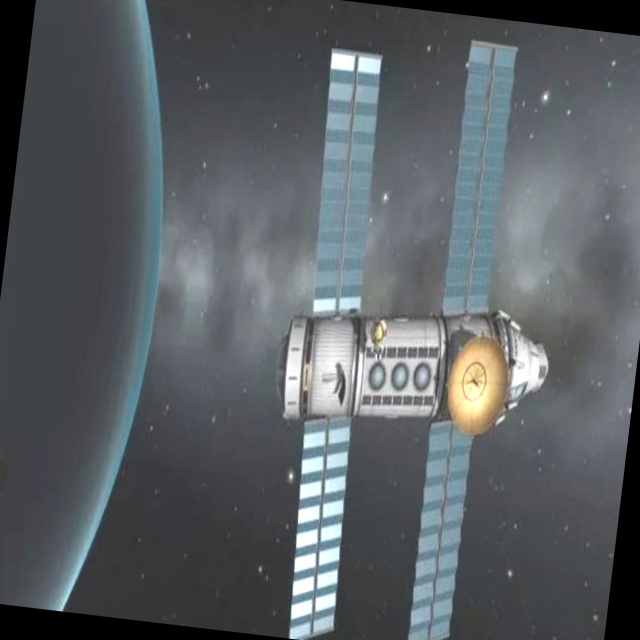satellite: (218, 0, 600, 640)
